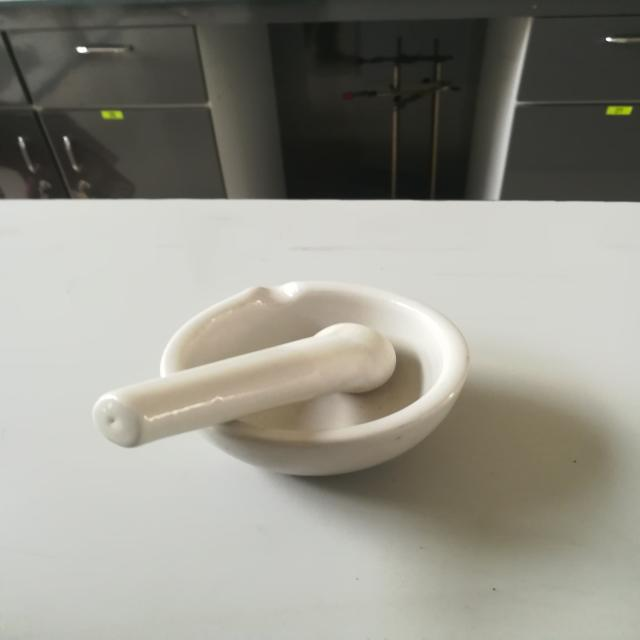Porcelain_Mortar Pestle: (1, 256, 524, 515)
